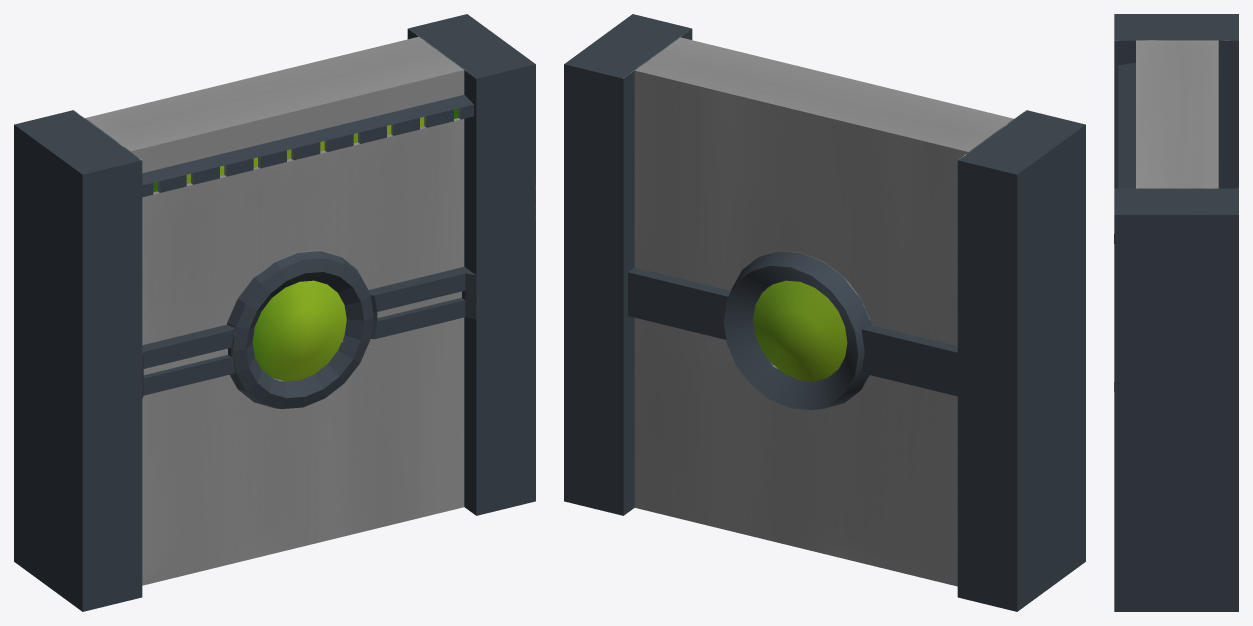
The model's file is wall_test.fbx.
3 views of the same model, side by side, from view 1: azimuth 30°, elevation 25°; view 2: azimuth 150°, elevation 25°; view 3: azimuth 270°, elevation 25° (orthographic). The views are drawn at different scales.
Visible parts, largest first — view 1: polySurface8; view 2: polySurface8; view 3: polySurface8.
Part boxes in pixels (x1,y1,x2,y2): polySurface8: (14,14,535,611); polySurface8: (564,14,1085,611); polySurface8: (1114,14,1238,611).
Size of the model in its own units: 10 by 9.22 by 2.63.
Materials: 2 (2 with a texture image).
